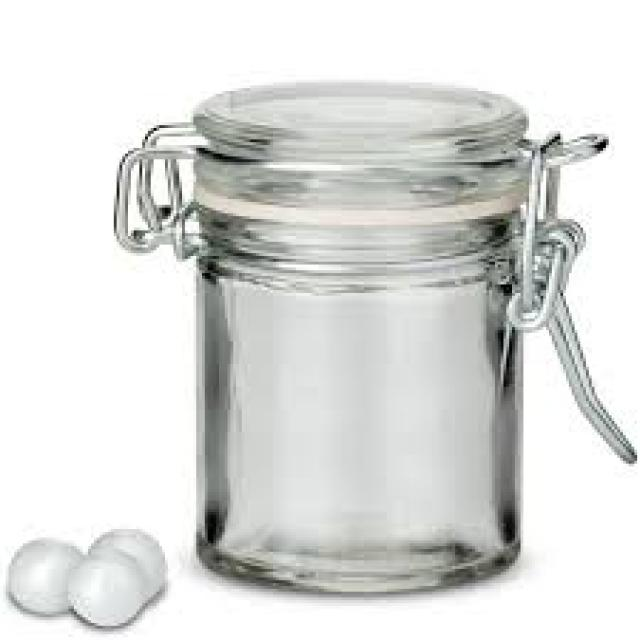Dry Waste: (106, 72, 640, 599)
